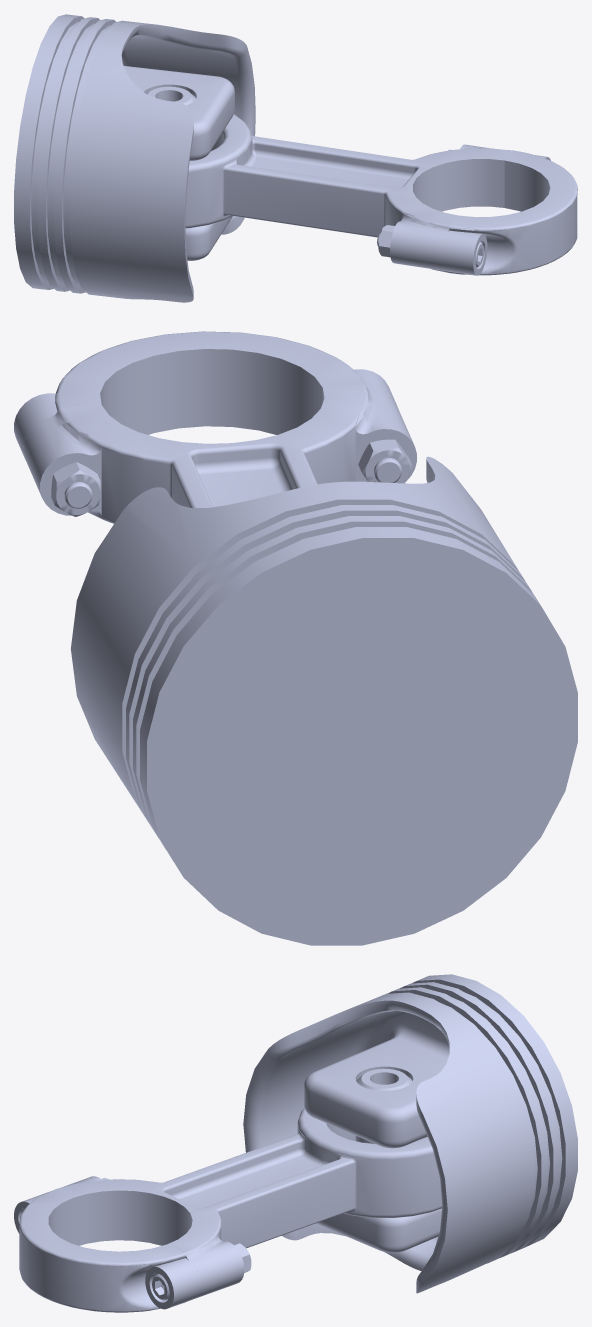
File: ass_pist_f.002.fbx
3 views of the same model, one above another, from view 1: azimuth 30°, elevation 25°; view 2: azimuth 150°, elevation 25°; view 3: azimuth 270°, elevation 25° (orthographic). The views are drawn at different scales.
Parts seen in each view (by area): view 1: EM_A3; view 2: EM_A3; view 3: EM_A3.
Boxes of the visible parts, x1,y1,x2,y2 form: EM_A3: (14, 14, 577, 302); EM_A3: (14, 331, 577, 945); EM_A3: (14, 974, 577, 1312).
Size of the model in its own units: 23.49 by 12.7 by 24.76.
